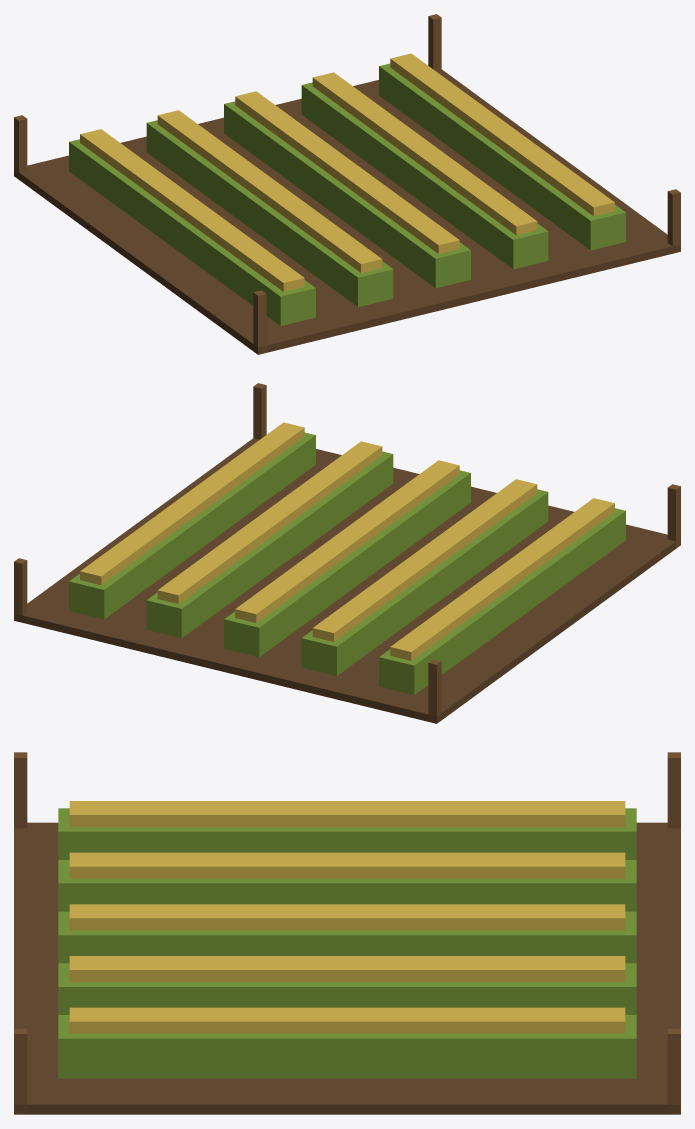
File: farm.glb
The picture shows the model from 3 angles, top to bottom: view 1: azimuth 30°, elevation 25°; view 2: azimuth 150°, elevation 25°; view 3: azimuth 270°, elevation 25°; orthographic projection. The views are drawn at different scales.
Parts seen in each view (by area): view 1: farm; view 2: farm; view 3: farm.
Part boxes in pixels (<box>): farm: <box>14,14,680,354</box>; farm: <box>14,383,680,723</box>; farm: <box>14,752,680,1114</box>.
Size of the model in its own units: 6 by 0.8 by 6.
